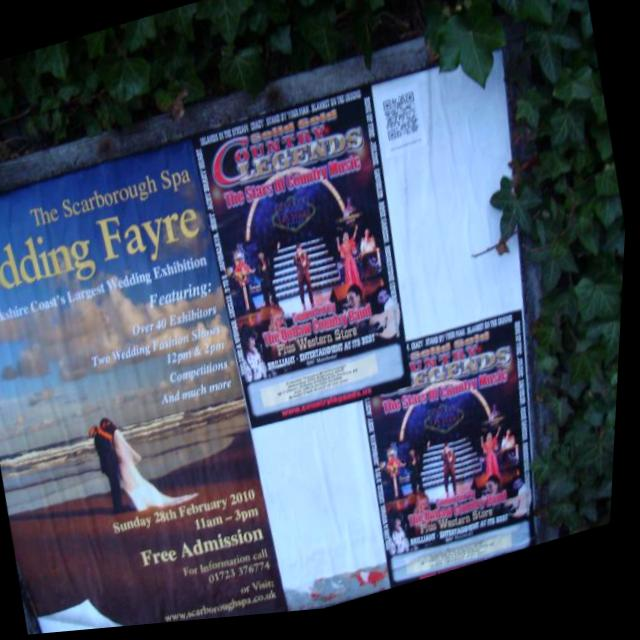qrcode: (383, 100, 423, 148)
